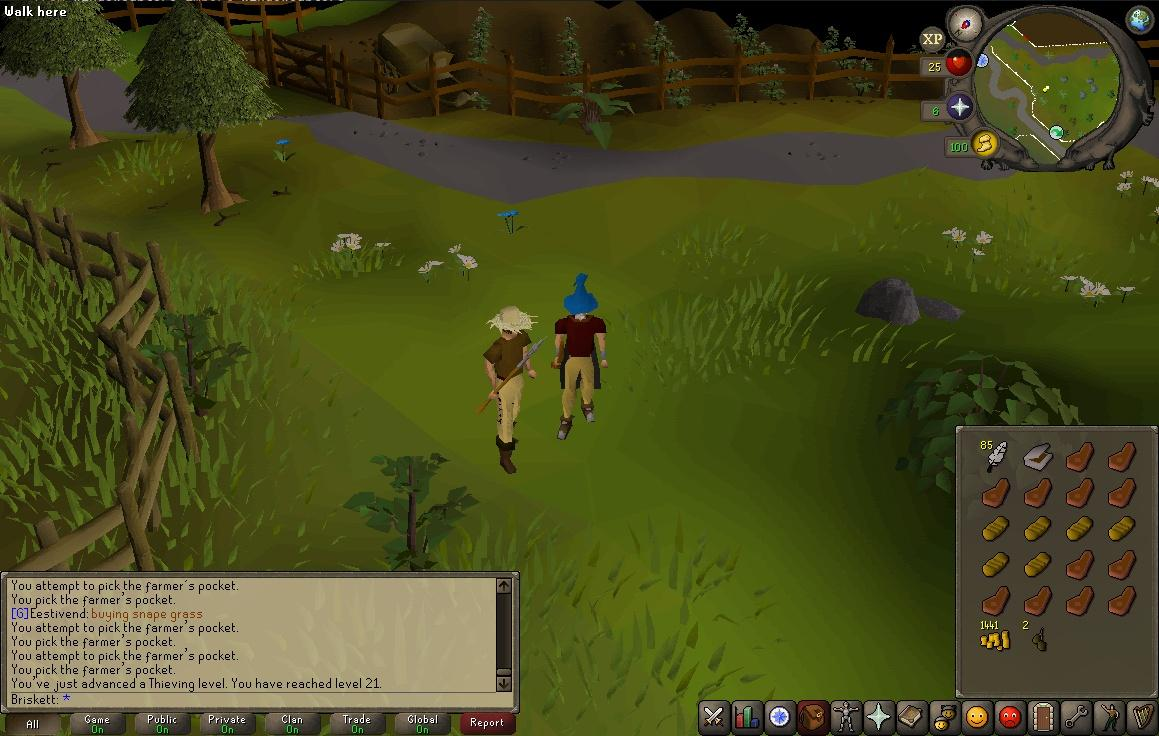Farmer: (482, 306, 542, 475)
